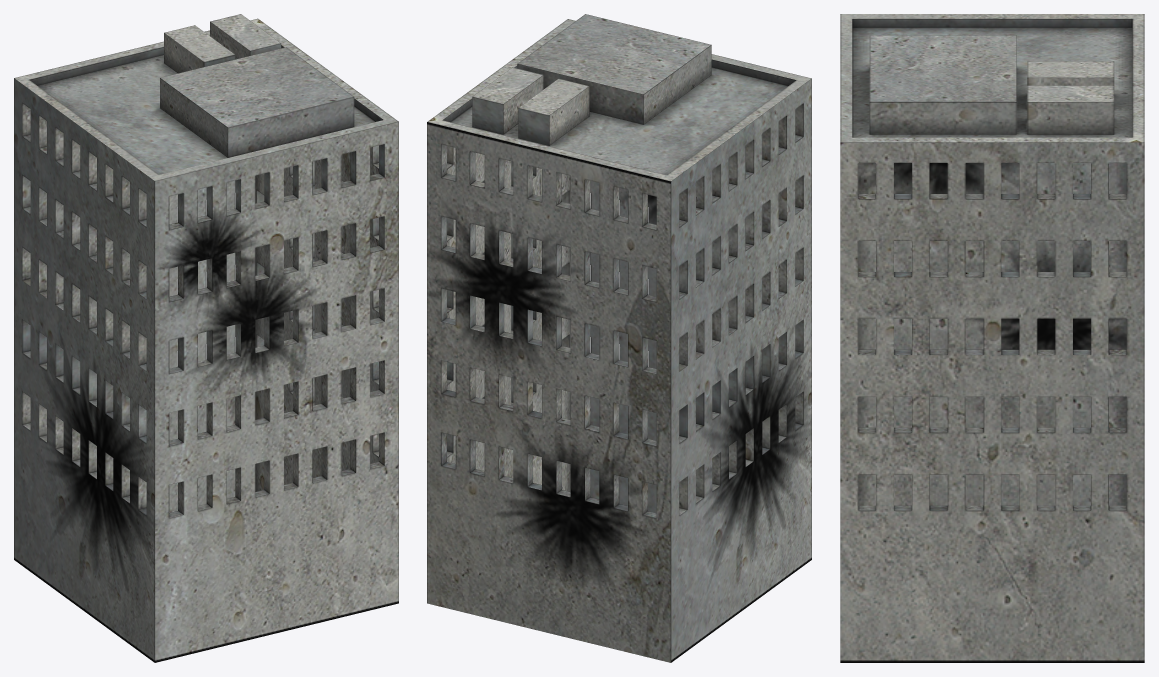
File: Skyscraper_01.fbx
3 renders of one model, left to right at view 1: azimuth 30°, elevation 25°; view 2: azimuth 150°, elevation 25°; view 3: azimuth 270°, elevation 25°, orthographic. The views are drawn at different scales.
Parts seen in each view (by area): view 1: Skyscraper_01; view 2: Skyscraper_01; view 3: Skyscraper_01.
Part boxes in pixels (x1,y1,x2,y2): Skyscraper_01: (14, 14, 398, 662); Skyscraper_01: (427, 14, 811, 662); Skyscraper_01: (840, 14, 1144, 662).
Bounding box in the file's own units: 17.09 × 33.73 × 17.09.
